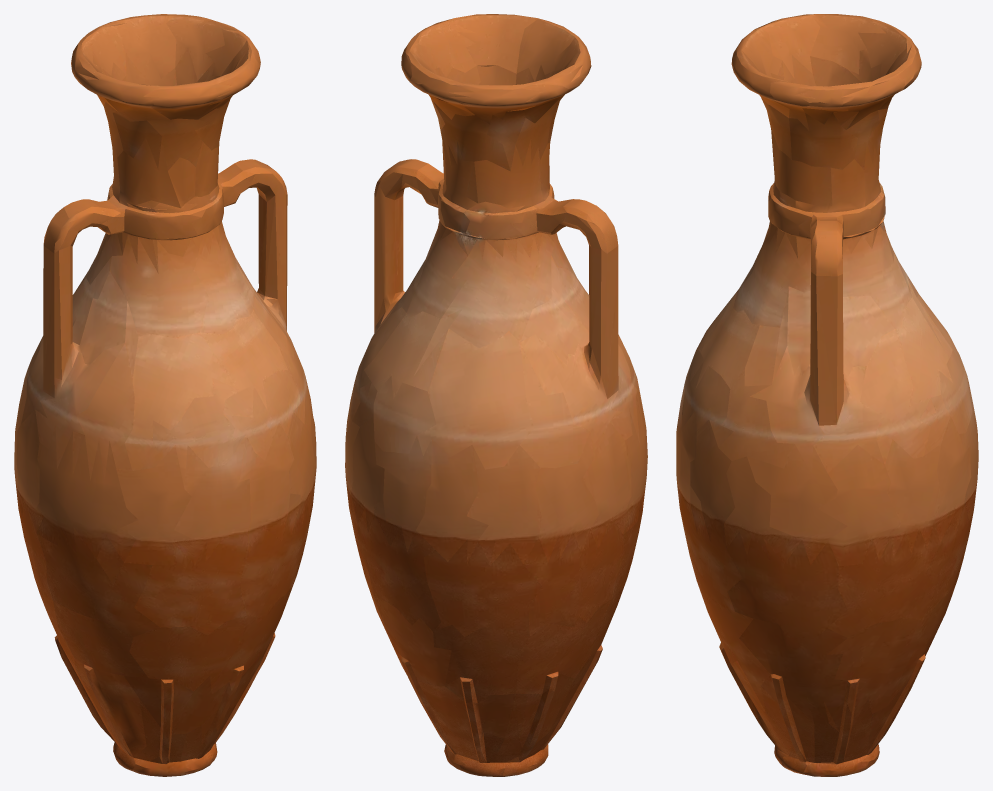
File: amphora.glb
The picture shows the model from 3 angles, left to right: view 1: azimuth 30°, elevation 25°; view 2: azimuth 150°, elevation 25°; view 3: azimuth 270°, elevation 25°; orthographic projection.
Parts seen in each view (by area): view 1: amphora; view 2: amphora; view 3: amphora.
Boxes of the visible parts, x1=… form: amphora: x1=14, y1=14, x2=316, y2=776; amphora: x1=345, y1=14, x2=647, y2=776; amphora: x1=676, y1=14, x2=978, y2=776.
Size of the model in its own units: 0.4259 by 1.1 by 0.4267.
1 material, 1 textured.
